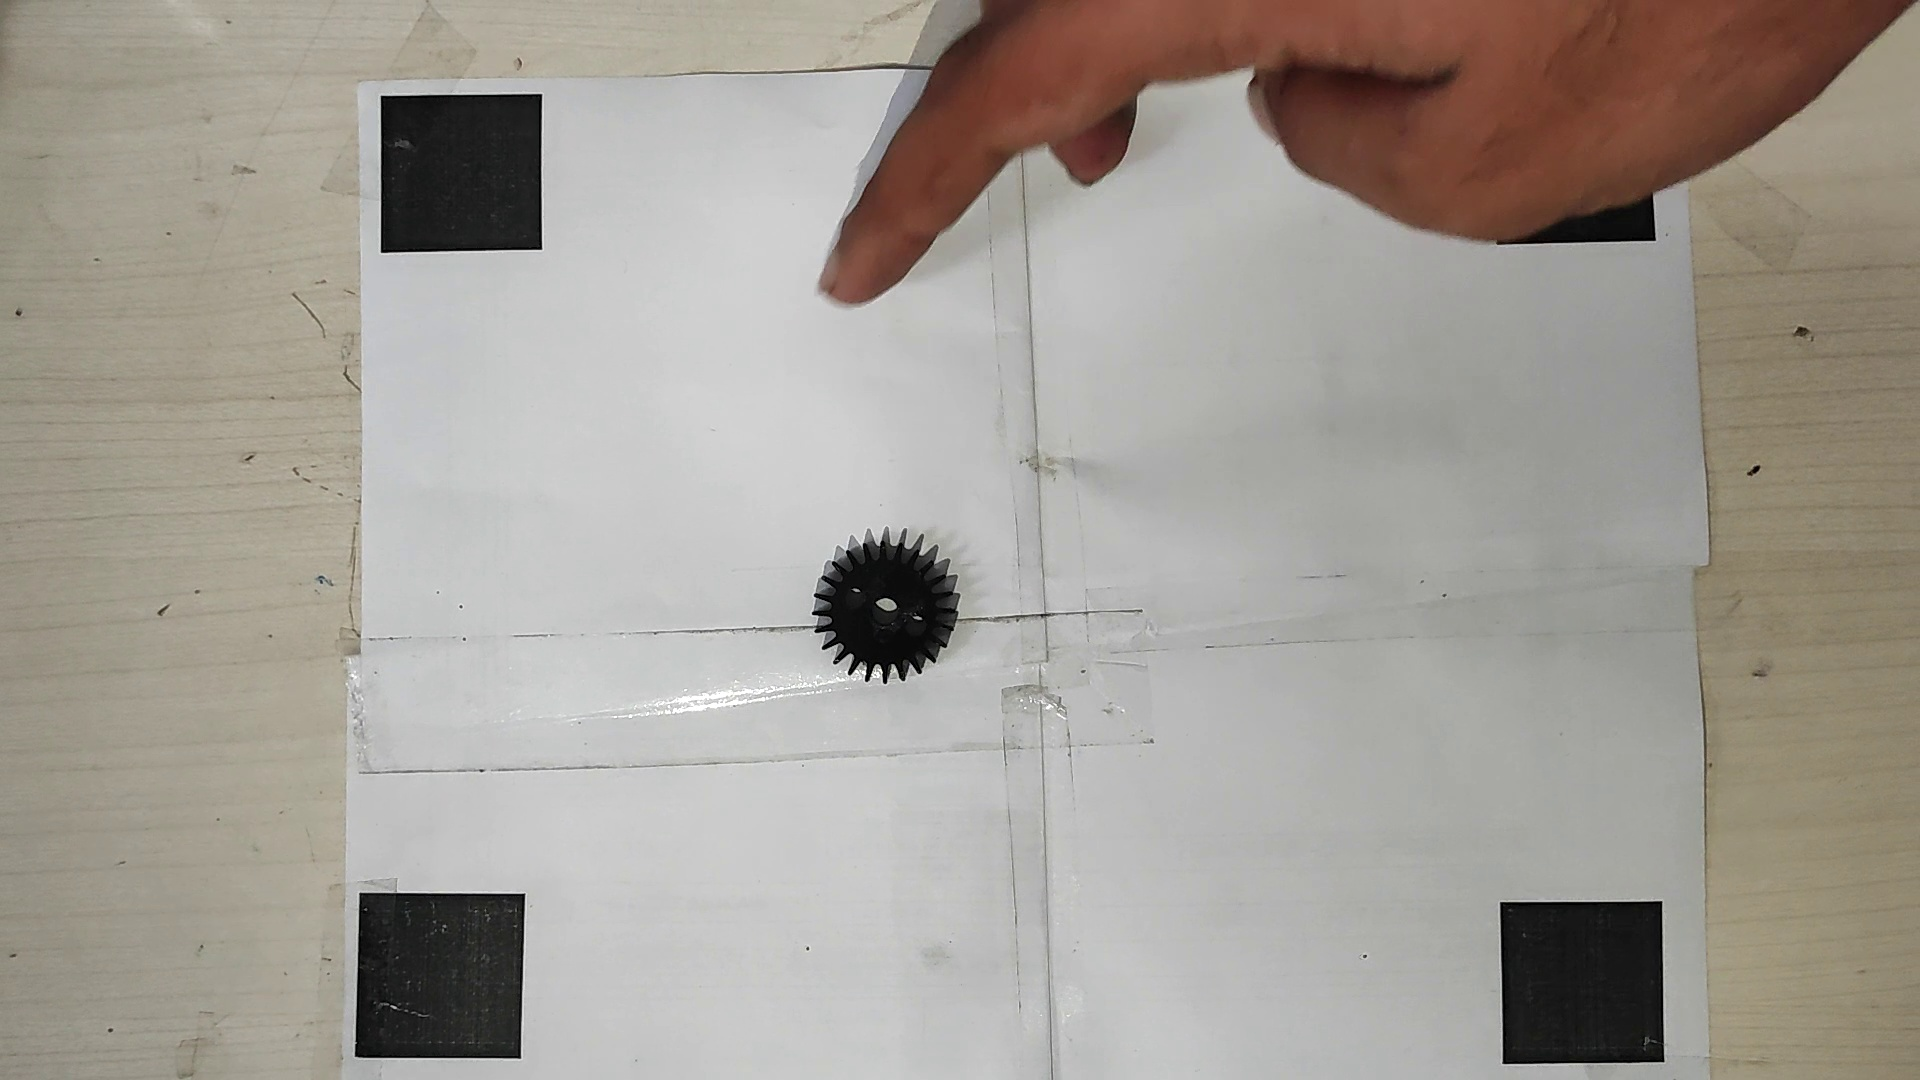Gear: (807, 526, 957, 679)
